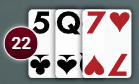5: (30, 10, 53, 36)
7: (83, 9, 108, 37)
q: (55, 10, 83, 37)
